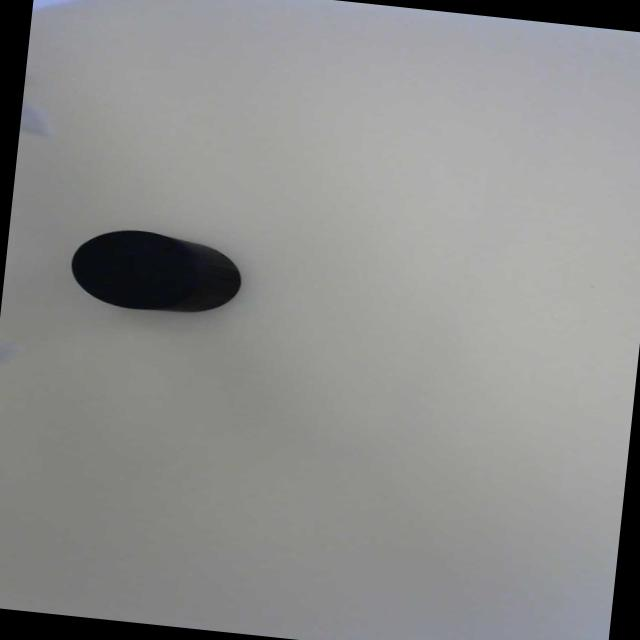circle: (64, 223, 199, 315)
